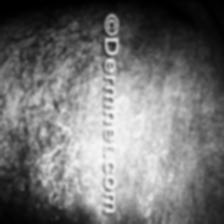Non-Cancerous Skin Condition: (22, 117, 97, 224), (120, 96, 159, 224)
